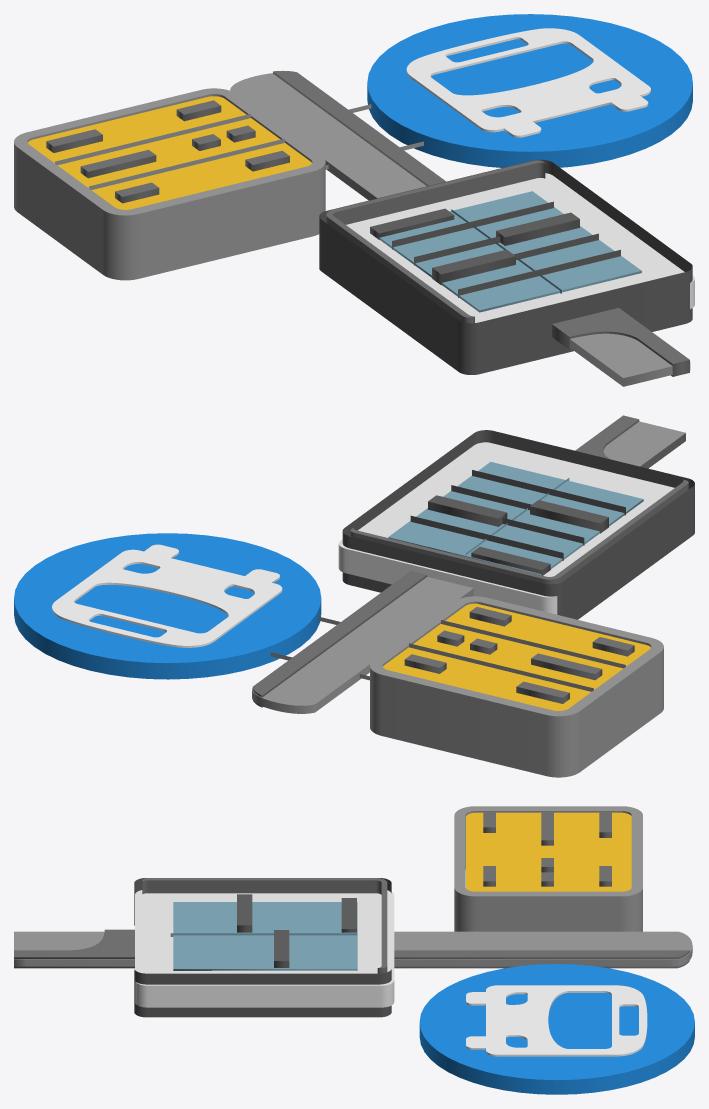
File: emoji_u1f68f.glb
3 renders of one model, top to bottom at view 1: azimuth 30°, elevation 25°; view 2: azimuth 150°, elevation 25°; view 3: azimuth 270°, elevation 25°, orthographic. The views are drawn at different scales.
Parts seen in each view (by area): view 1: emoji_u1f68f; view 2: emoji_u1f68f; view 3: emoji_u1f68f.
Boxes of the visible parts, left/top/right/bottom form: emoji_u1f68f: left=14, top=14, right=694, bottom=386; emoji_u1f68f: left=14, top=415, right=694, bottom=777; emoji_u1f68f: left=14, top=806, right=694, bottom=1094.
Size of the model in its own units: 0.0298 by 0.0034 by 0.0338.
